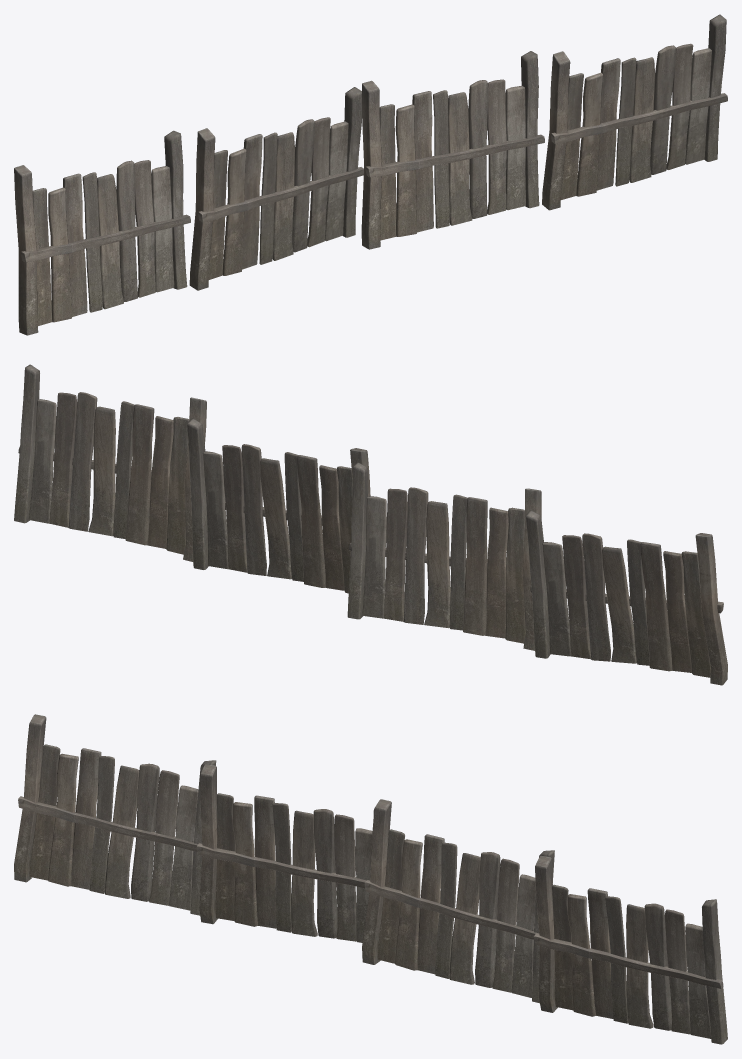
File: prop_fence_02_quad.glb
The picture shows the model from 3 angles, top to bottom: view 1: azimuth 30°, elevation 25°; view 2: azimuth 150°, elevation 25°; view 3: azimuth 330°, elevation 25°; orthographic projection.
Visible parts, largest first — view 1: prop_fences_03; view 2: prop_fences_03; view 3: prop_fences_03.
Part boxes in pixels (x1,y1,x2,y2): prop_fences_03: (14,14,727,335); prop_fences_03: (14,364,727,685); prop_fences_03: (14,714,727,1044).
Size of the model in its own units: 11.02 by 2.38 by 0.9593.
1 material, 1 textured.
